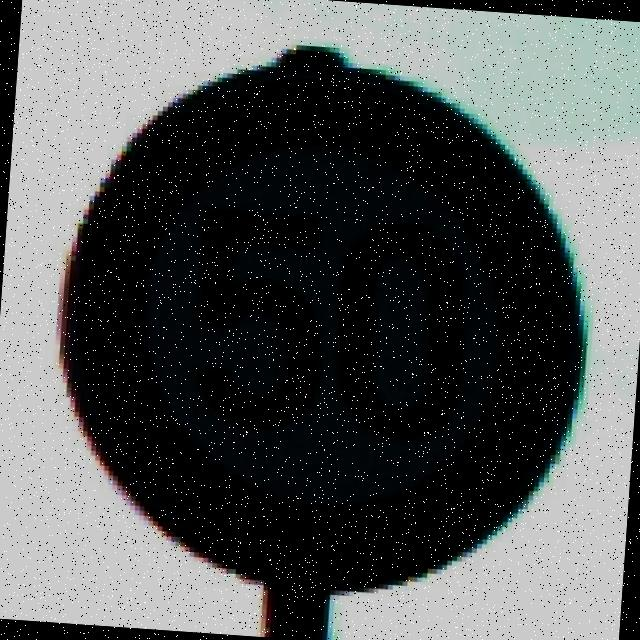Ograniczenie predkosci do 50: (56, 57, 596, 596)
